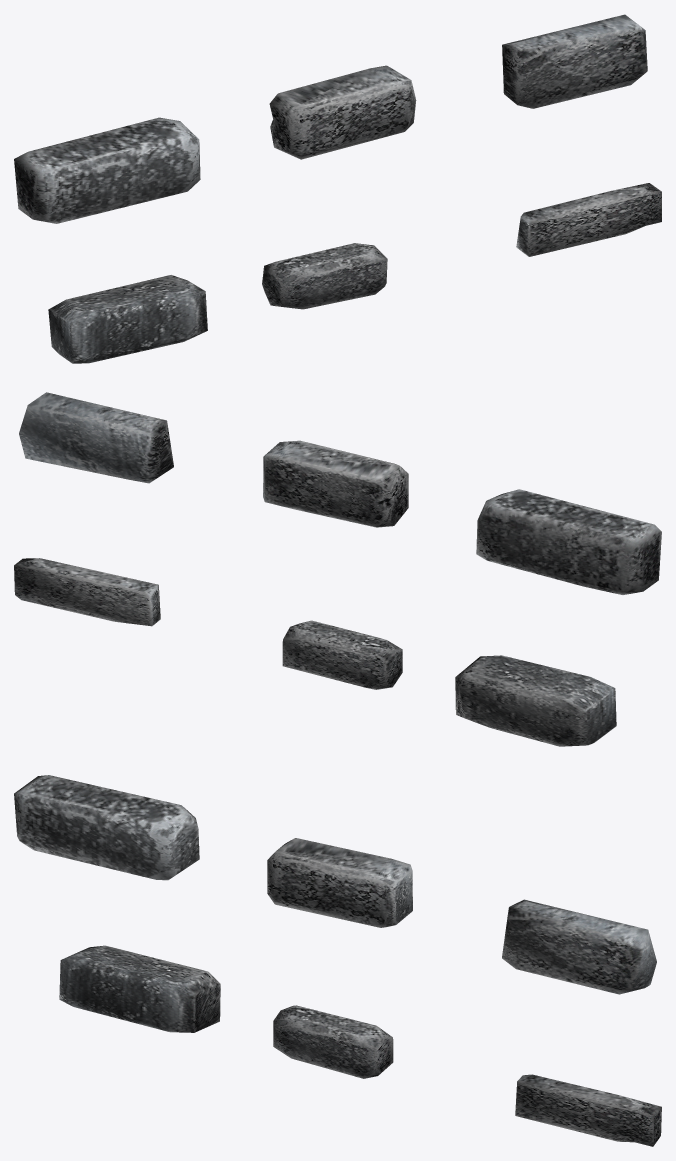
File: Single Stones.FBX
3 renders of one model, top to bottom at view 1: azimuth 30°, elevation 25°; view 2: azimuth 150°, elevation 25°; view 3: azimuth 330°, elevation 25°, orthographic.
Visible parts, largest first — view 1: Single Stone A, Single Stone D, Single Stone C, Single Stone B, Single Stone F, Single Stone E; view 2: Single Stone A, Single Stone D, Single Stone C, Single Stone B, Single Stone F, Single Stone E; view 3: Single Stone A, Single Stone D, Single Stone C, Single Stone B, Single Stone F, Single Stone E.
Part boxes in pixels (box(x1,y1,x2,y2)): Single Stone A: box(14, 117, 200, 223); Single Stone D: box(48, 275, 207, 363); Single Stone C: box(502, 14, 647, 108); Single Stone B: box(269, 65, 416, 159); Single Stone F: box(516, 183, 661, 256); Single Stone E: box(262, 243, 387, 309); Single Stone A: box(476, 489, 661, 594); Single Stone D: box(455, 655, 616, 746); Single Stone C: box(19, 392, 173, 483); Single Stone B: box(263, 440, 408, 527); Single Stone F: box(14, 558, 160, 626); Single Stone E: box(282, 620, 402, 689); Single Stone A: box(14, 775, 199, 880); Single Stone D: box(59, 945, 220, 1032); Single Stone C: box(502, 899, 656, 994); Single Stone B: box(267, 838, 412, 927); Single Stone F: box(515, 1074, 661, 1146); Single Stone E: box(273, 1005, 393, 1078).
Bounding box in the file's own units: 360 × 38.94 × 117.
Materials: 1 (1 with a texture image).
